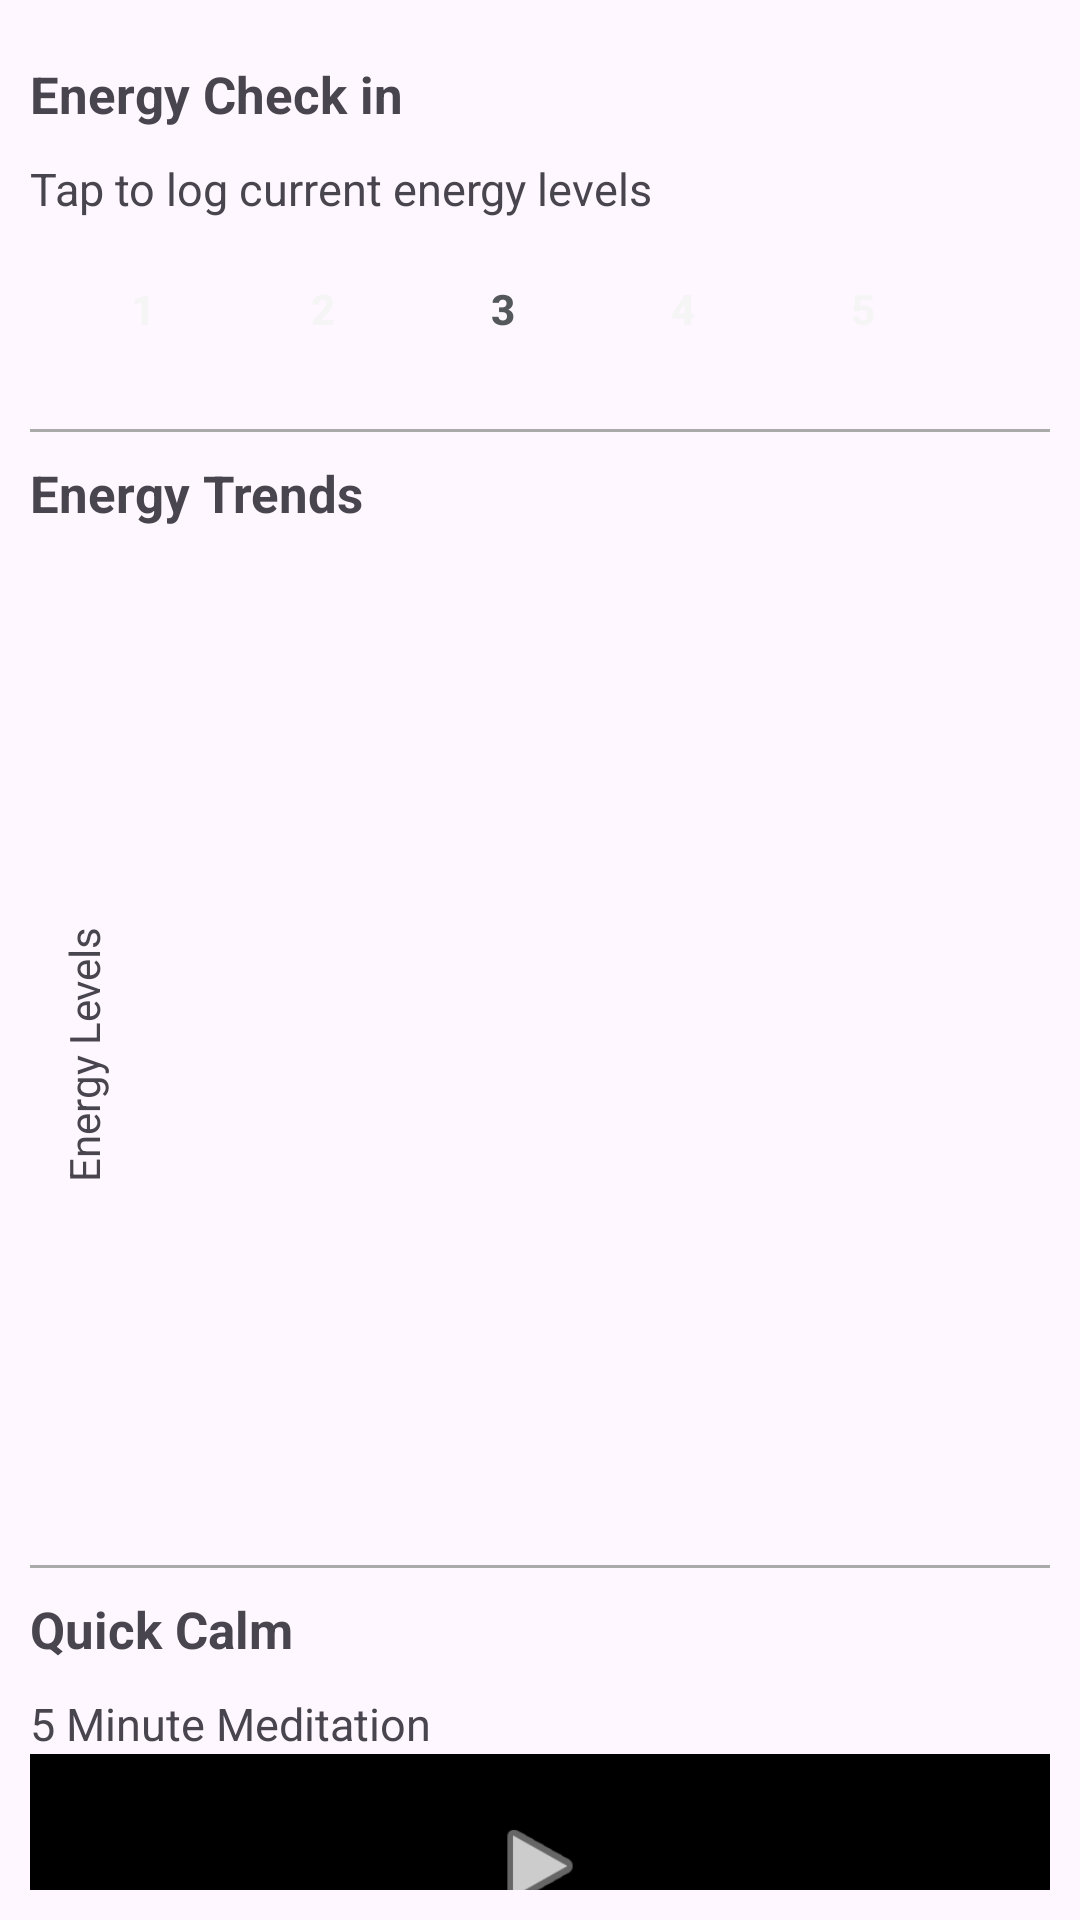

Point at icon controls on the screen. Image size 1080px x 1920px, points as (x,y).
play: (540,1875)
